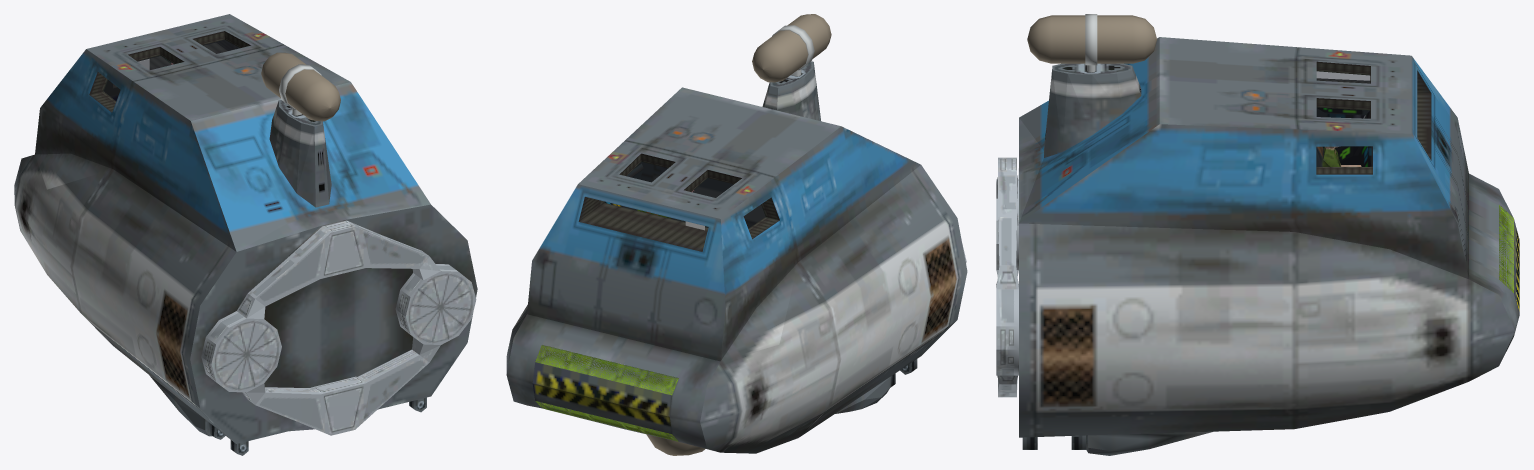
Rendered from shuttlea_vc.obj.
3 renders of one model, left to right at view 1: azimuth 30°, elevation 25°; view 2: azimuth 150°, elevation 25°; view 3: azimuth 270°, elevation 25°, orthographic. The views are drawn at different scales.
Visible parts, largest first — view 1: group15, group19, group14, group11, group53, group20, group21; view 2: group15, group18, group19, group16, group11, group17, group13, group53, group5, group12, group20, group8; view 3: group15, group19, group18, group14, group11, group53, group20, group16, group4, group13, group10, group3.
Boxes of the visible parts, <box> form: group15: <box>14,31,477,443</box>; group19: <box>86,14,430,251</box>; group14: <box>201,220,476,435</box>; group11: <box>261,52,340,121</box>; group53: <box>104,40,238,100</box>; group20: <box>149,375,208,435</box>; group21: <box>208,397,426,455</box>; group15: <box>506,61,967,453</box>; group18: <box>506,184,725,448</box>; group19: <box>578,87,840,218</box>; group16: <box>532,345,678,416</box>; group11: <box>752,14,831,82</box>; group17: <box>532,383,678,441</box>; group13: <box>535,345,678,395</box>; group53: <box>605,162,765,228</box>; group5: <box>627,162,765,228</box>; group12: <box>535,401,678,441</box>; group20: <box>517,376,890,451</box>; group8: <box>646,434,705,455</box>; group15: <box>1019,61,1514,452</box>; group19: <box>1019,37,1411,223</box>; group18: <box>1411,56,1519,363</box>; group14: <box>996,157,1018,397</box>; group11: <box>1027,15,1156,63</box>; group53: <box>1316,71,1372,166</box>; group20: <box>1088,431,1212,455</box>; group16: <box>1499,206,1519,313</box>; group4: <box>1316,107,1372,166</box>; group13: <box>1499,205,1513,292</box>; group10: <box>1085,14,1097,65</box>; group3: <box>1316,146,1361,166</box>.
Size of what is drawn, in the model's own units: 5.21 by 6.1 by 7.36.
Materials: 23 (16 with a texture image).
